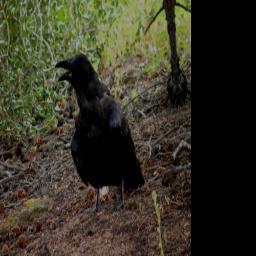Crow: (53, 35, 148, 229)
